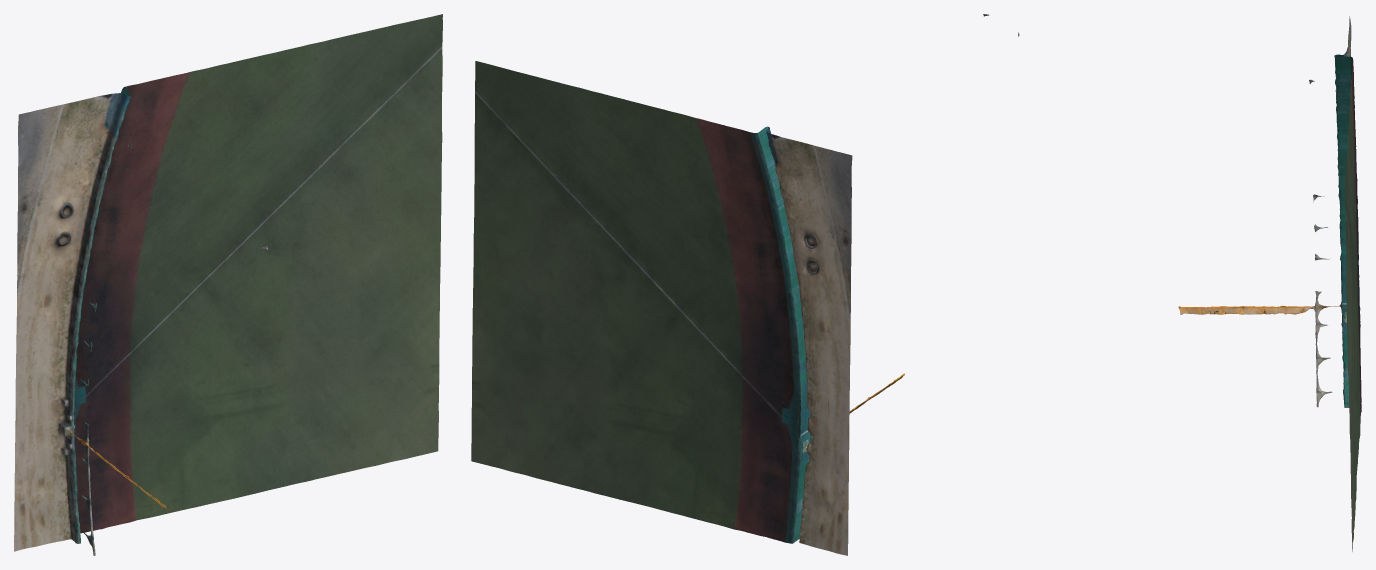
Rendered from Tile_+013_+007.fbx.
3 renders of one model, left to right at view 1: azimuth 30°, elevation 25°; view 2: azimuth 150°, elevation 25°; view 3: azimuth 270°, elevation 25°, orthographic. The views are drawn at different scales.
Visible parts, largest first — view 1: DefaultName; view 2: DefaultName; view 3: DefaultName.
Part boxes in pixels (bbox=[...]): DefaultName: bbox=[14, 14, 442, 555]; DefaultName: bbox=[471, 14, 989, 555]; DefaultName: bbox=[1018, 16, 1361, 551].
Size of the model in its own units: 22.54 by 22.54 by 18.99.
